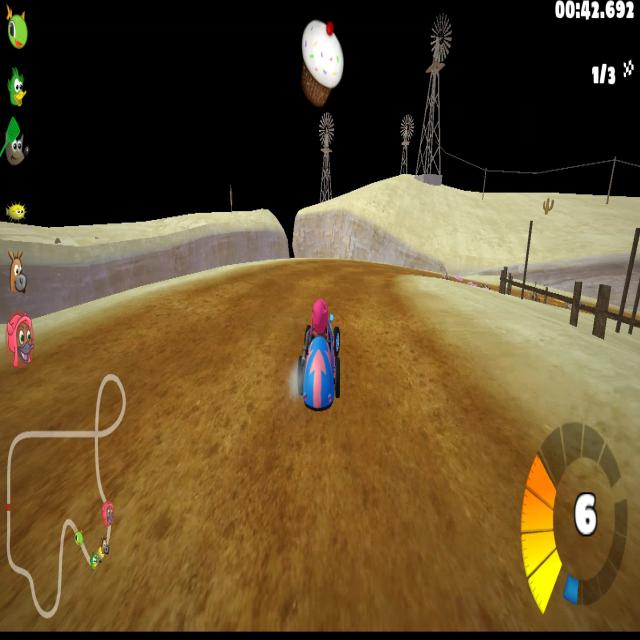player_kart: (294, 303, 343, 413)
